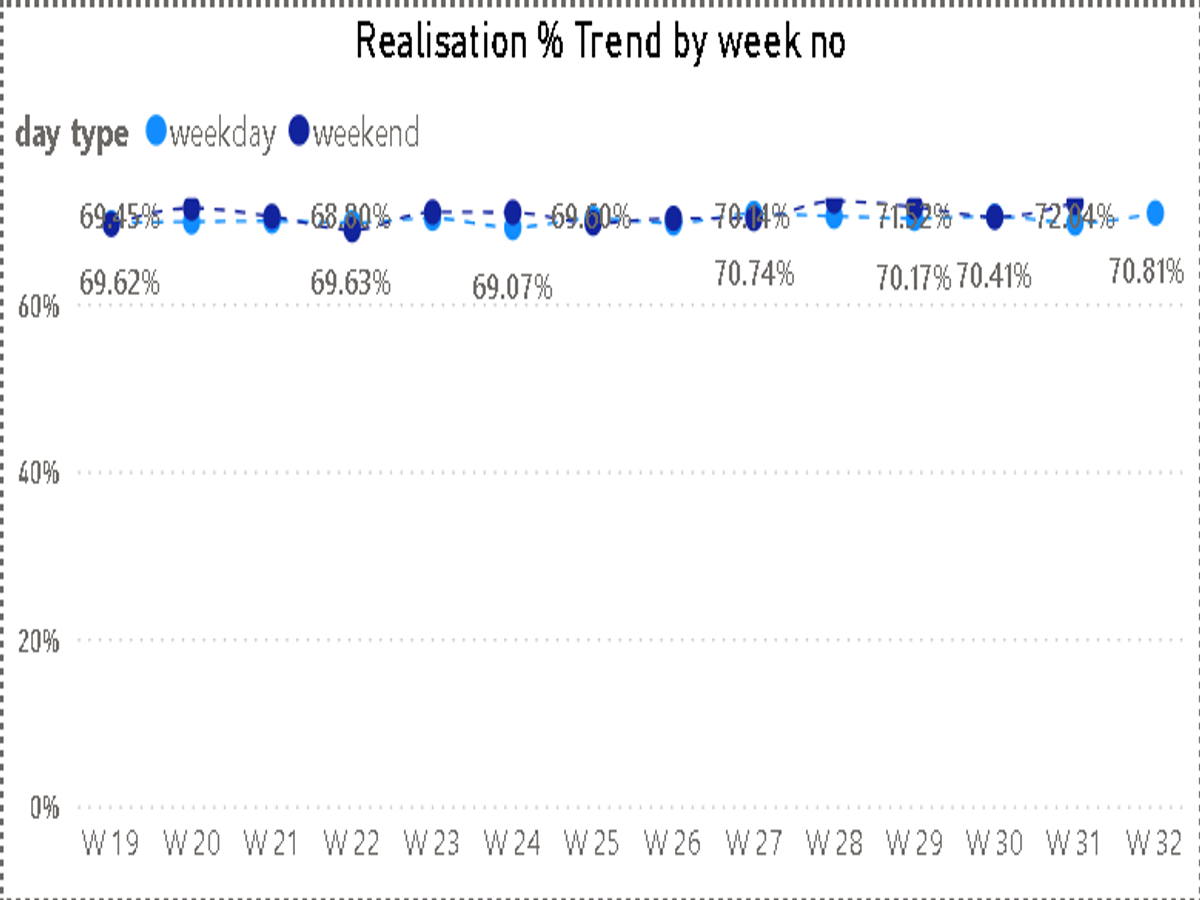

This screenshot's page, from the dashboard's own definition file:
{"tool":"powerbi","page":{"name":"Tt6","canvas":[575,290],"ordinal":6},"visuals":[{"type":"lineChart","title":"Realisation % Trend by week no ","fields":{"Category":["dim_date.week no"],"Series":["dim_date.day type"],"Y":["key measures.Realisation %"]},"box":[0,0,575,290.3],"z":0}]}

Visuals, with their boxes on the page's 575x290 design canvas (x1, y1, x2, y2). These are canvas units, not pixel positions in the 1200x900 screenshot, which may show the page scaled, cropped or inside an application window:
"Realisation % Trend by week no " lineChart: 0/0/575/290
